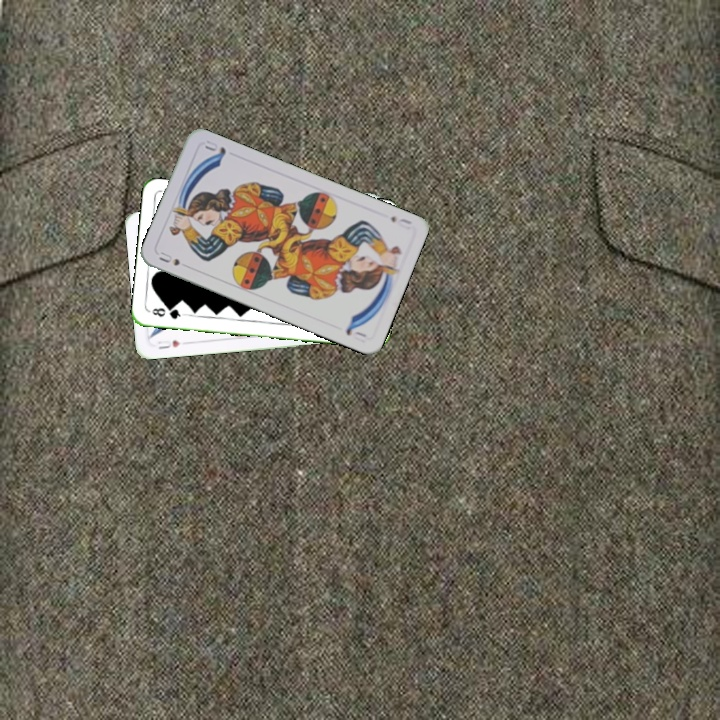G8: (148, 304, 187, 321)
HU: (153, 336, 183, 352)
SU: (155, 248, 182, 269), (387, 212, 414, 232)
